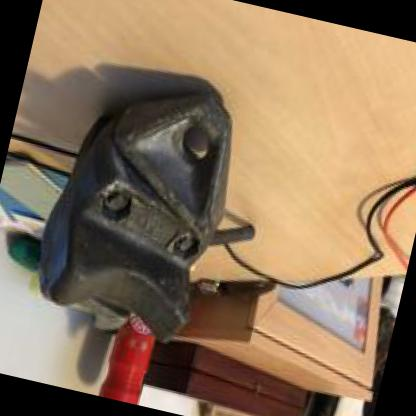Twistlock: (15, 50, 294, 368)
